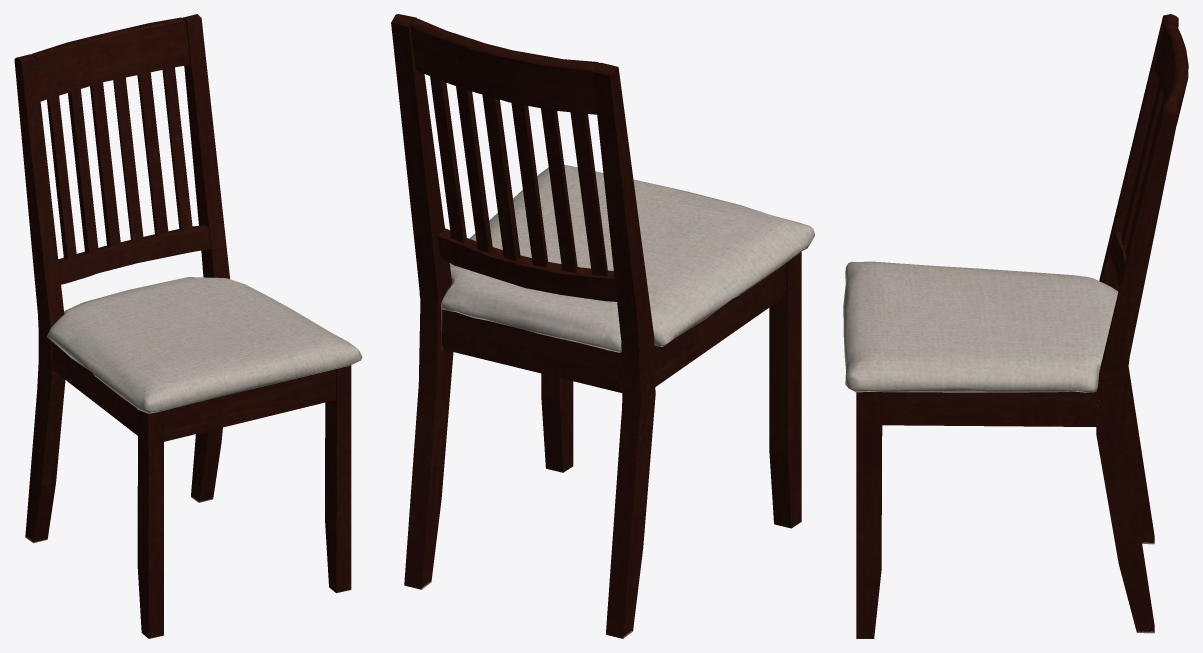
File: 15 - NÄSINGE Chair - dark brown stainedKilanda light beige.glb
3 renders of one model, left to right at view 1: azimuth 30°, elevation 25°; view 2: azimuth 150°, elevation 25°; view 3: azimuth 270°, elevation 25°, orthographic. The views are drawn at different scales.
Visible parts, largest first — view 1: ASY_ART_40587503_S01_NV01, ASY_LPT15_40587503_S01_NV01; view 2: ASY_ART_40587503_S01_NV01, ASY_LPT15_40587503_S01_NV01; view 3: ASY_ART_40587503_S01_NV01, ASY_LPT15_40587503_S01_NV01.
Part boxes in pixels (x1,y1,x2,y2): ASY_ART_40587503_S01_NV01: [14, 14, 351, 638]; ASY_LPT15_40587503_S01_NV01: [47, 277, 362, 413]; ASY_ART_40587503_S01_NV01: [391, 14, 801, 638]; ASY_LPT15_40587503_S01_NV01: [441, 165, 814, 352]; ASY_ART_40587503_S01_NV01: [856, 14, 1188, 638]; ASY_LPT15_40587503_S01_NV01: [843, 261, 1118, 392].
Bounding box in the file's own units: 0.4395 × 0.8992 × 0.538.
Materials: 2 (2 with a texture image).
